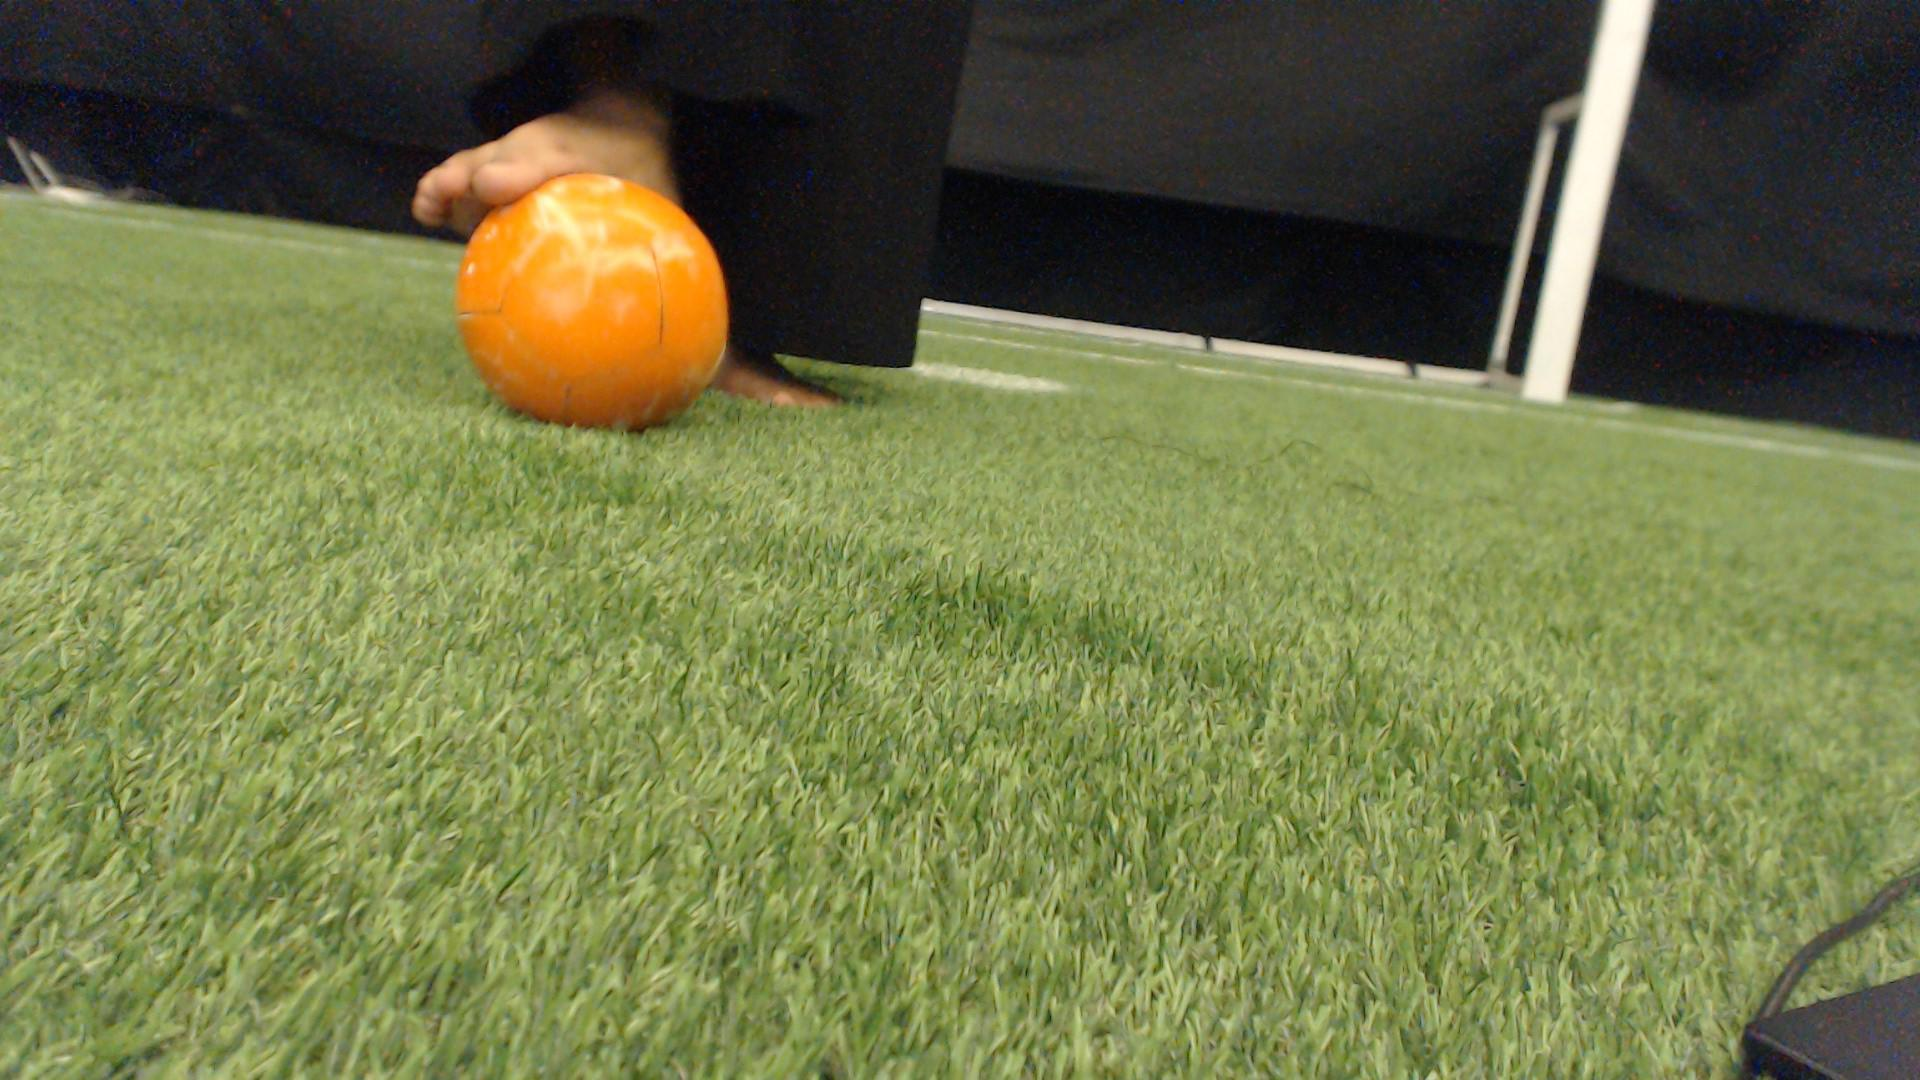bola: (431, 169, 752, 433)
